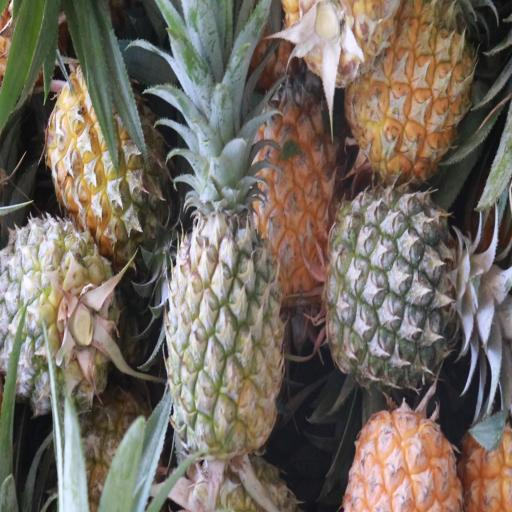------------------------------: (48, 61, 166, 259), (0, 216, 116, 408)
Pineapple - v8 v1: (346, 4, 473, 173), (253, 79, 338, 295), (343, 394, 463, 512)
